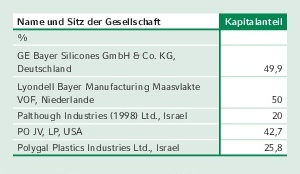table: (0, 0, 300, 174)
